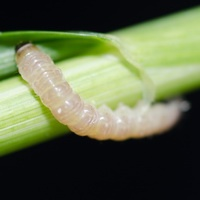insect: (16, 43, 188, 139)
